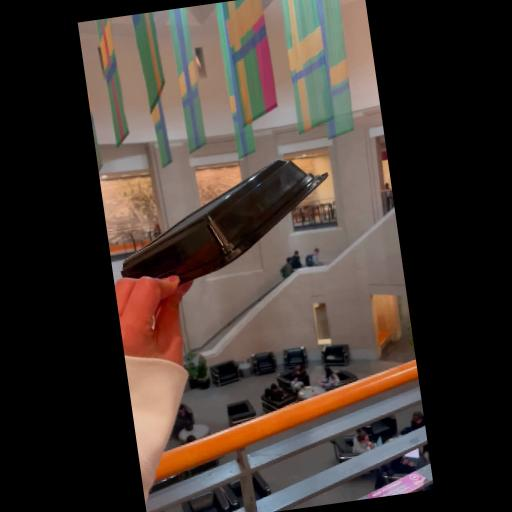rigid_plastic_container: (108, 154, 338, 290)
